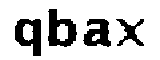a: (83, 17, 113, 51)
b: (47, 7, 78, 51)
q: (14, 15, 43, 60)
x: (114, 16, 147, 49)
